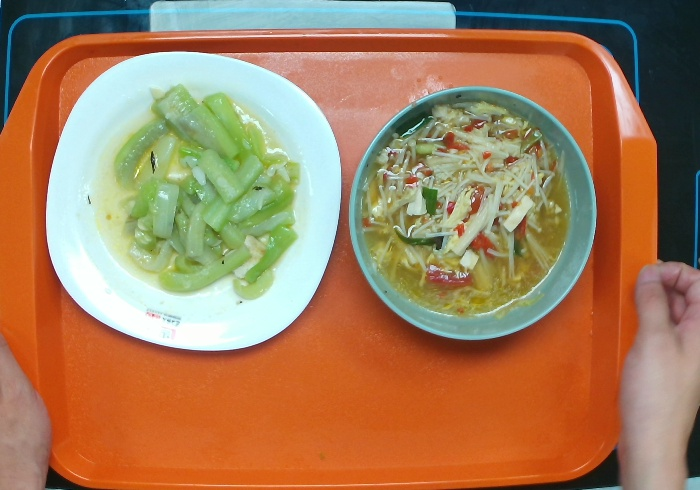ZNLD-Qing_Hua_Yuan_Wan: (346, 84, 600, 343)
ZNLD-Yuan_Jiao_Pan: (43, 50, 343, 353)
